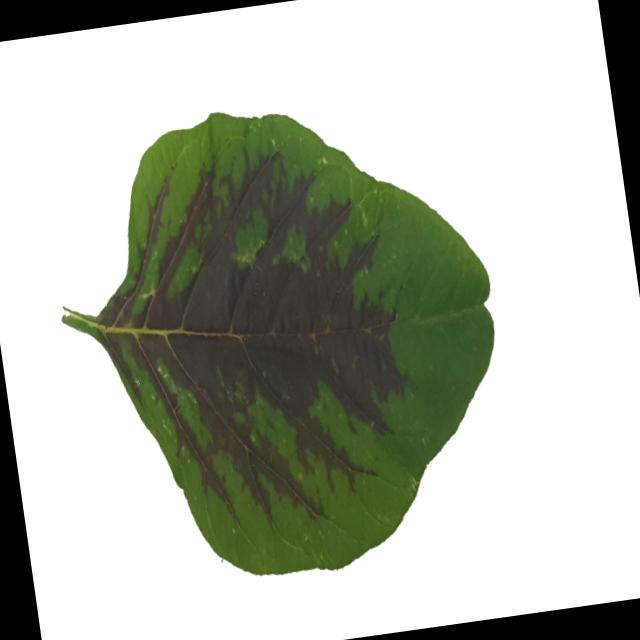Medicinal-Arive Dantu: (36, 73, 528, 608)
